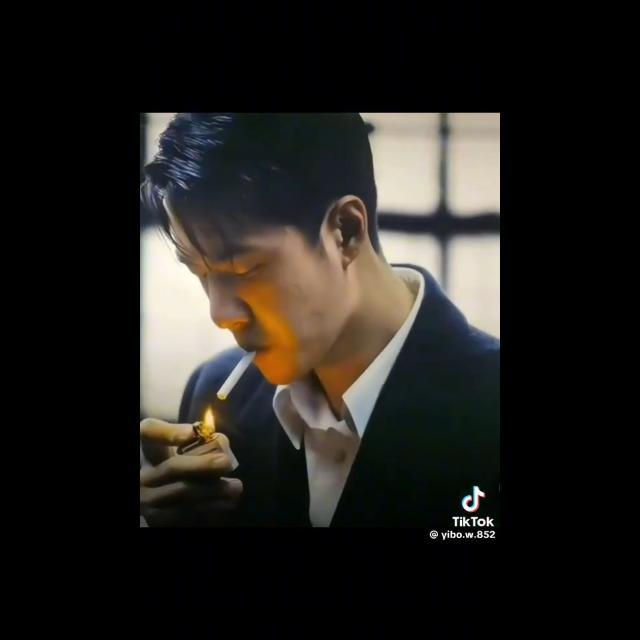rokok: (203, 344, 273, 404)
